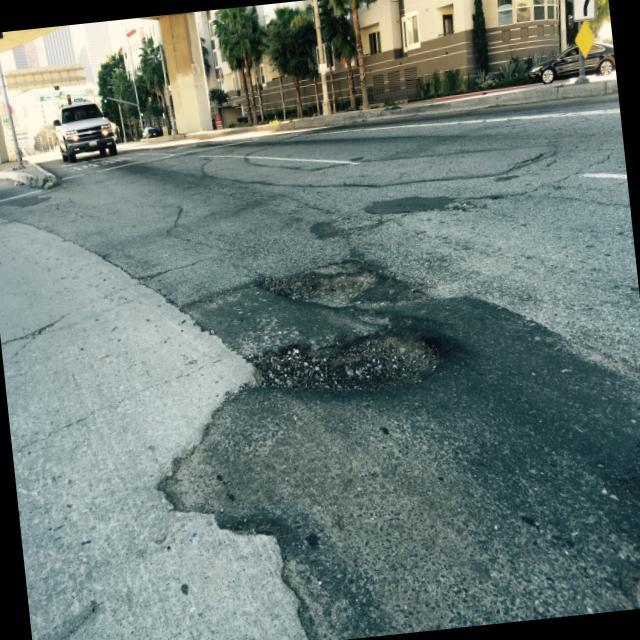Pothole: (242, 322, 472, 404), (248, 252, 417, 324)
